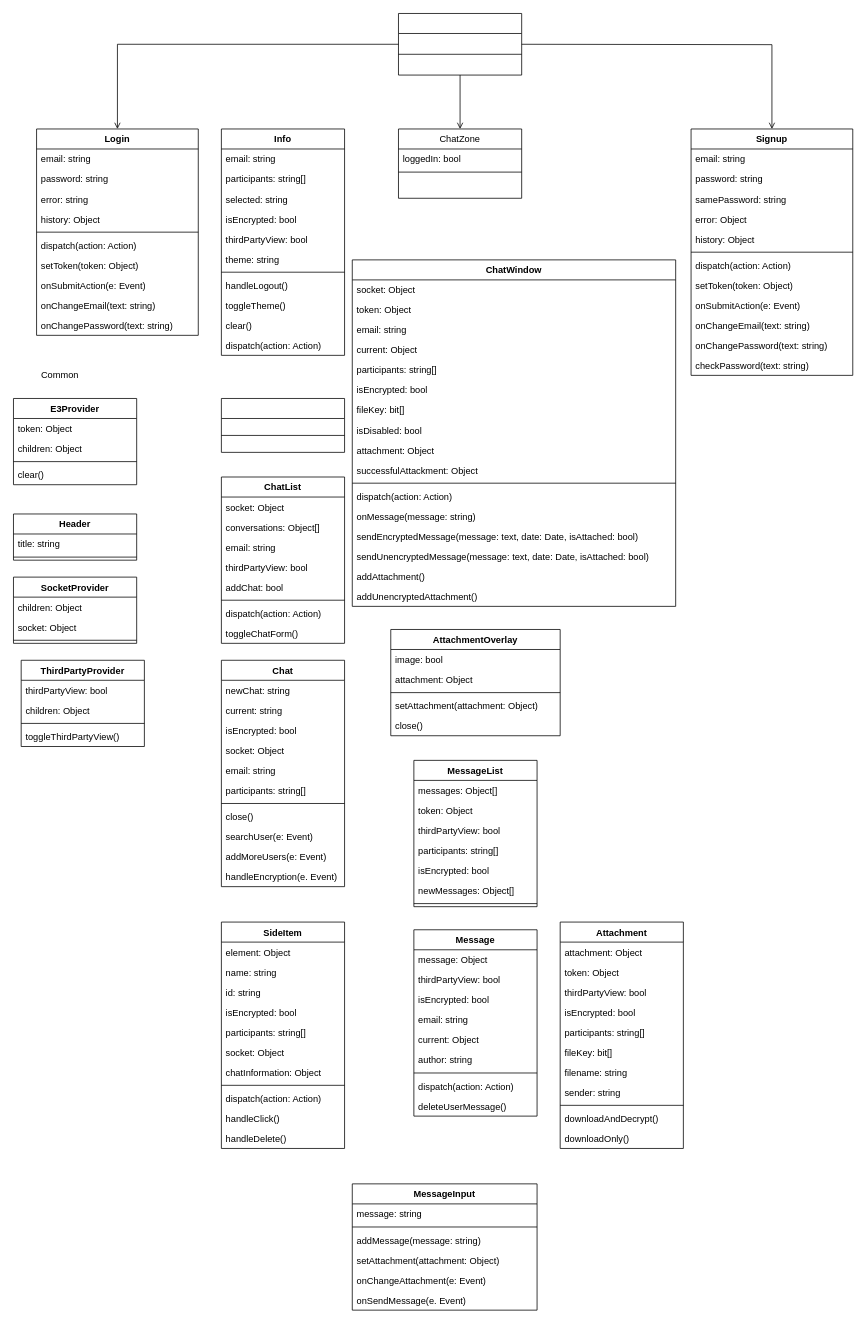
Image size: 866x1326. Some labels were removed from this diagram. The shapes that lost their labels are listed below. From the top down, each one's centre as x and y in pixels, then its label:
pixel 460 44: App
pixel 283 425: SidePanel
